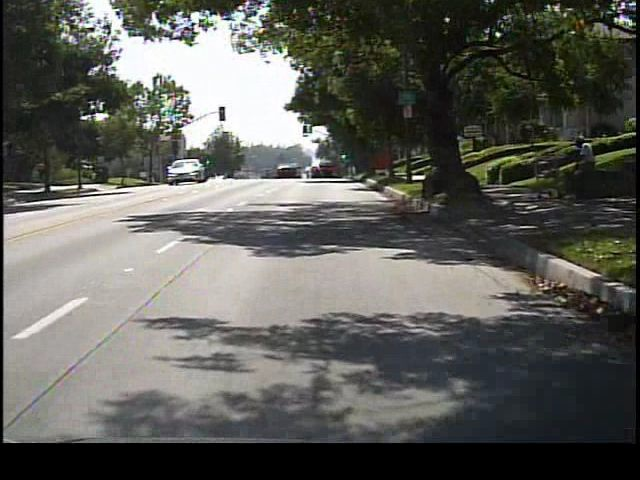person: (568, 132, 601, 208)
